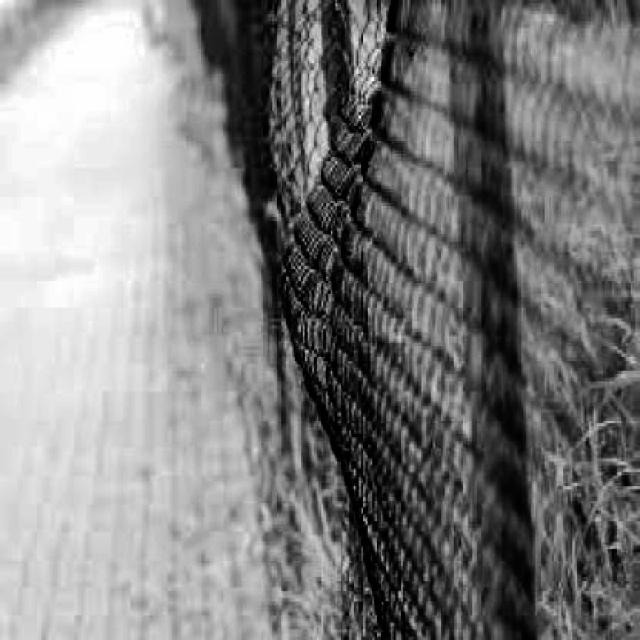anomaly-fence: (260, 0, 391, 367)
